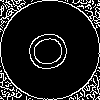O: (25, 25, 80, 75)
